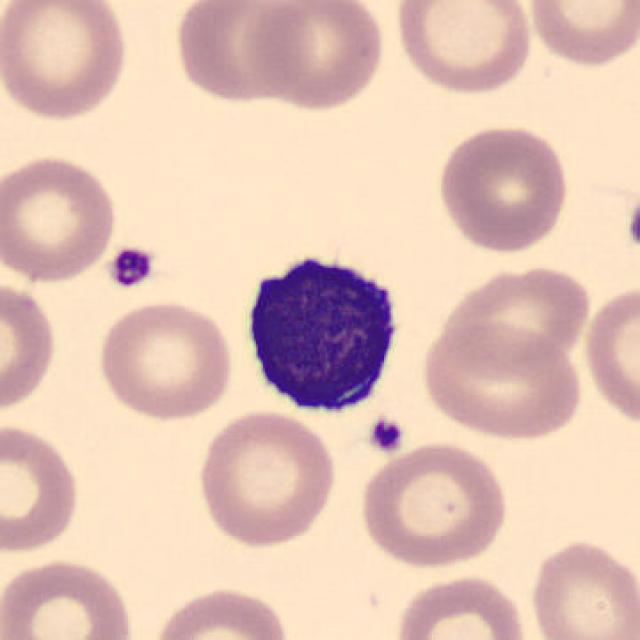Lymphocyte: (233, 238, 412, 421)
Platelets: (107, 243, 158, 291), (366, 414, 407, 457), (622, 192, 640, 259)
RBC: (414, 319, 587, 443), (192, 407, 340, 550), (356, 439, 512, 571), (432, 120, 572, 256), (92, 296, 236, 423), (436, 261, 596, 374), (0, 0, 133, 123), (246, 0, 390, 113), (0, 152, 121, 286), (169, 0, 311, 106), (389, 0, 537, 97), (524, 536, 638, 640), (0, 555, 139, 640), (0, 418, 84, 557), (391, 571, 532, 640), (580, 277, 638, 432), (0, 275, 60, 419), (147, 583, 293, 640), (524, 0, 638, 71)
